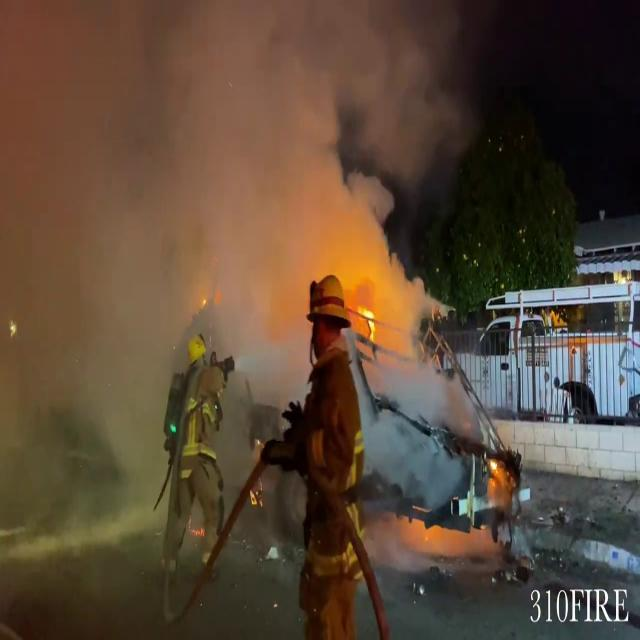Smoke: (0, 0, 462, 392)
